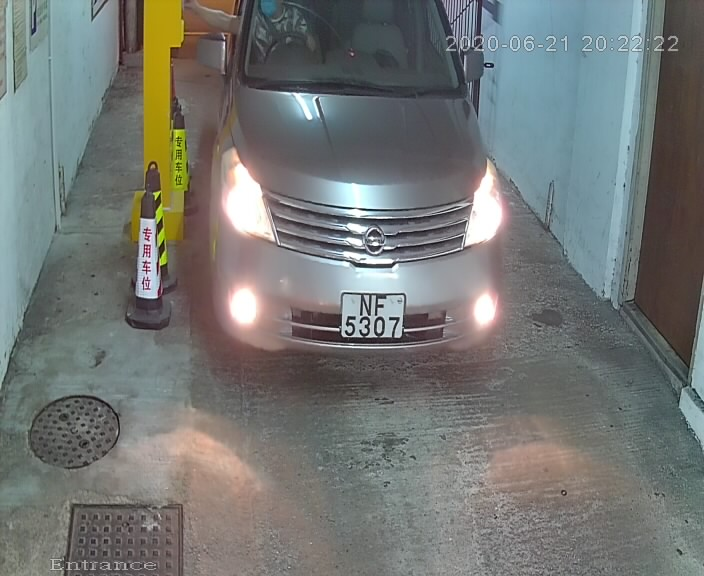privatecar: (200, 1, 513, 397)
